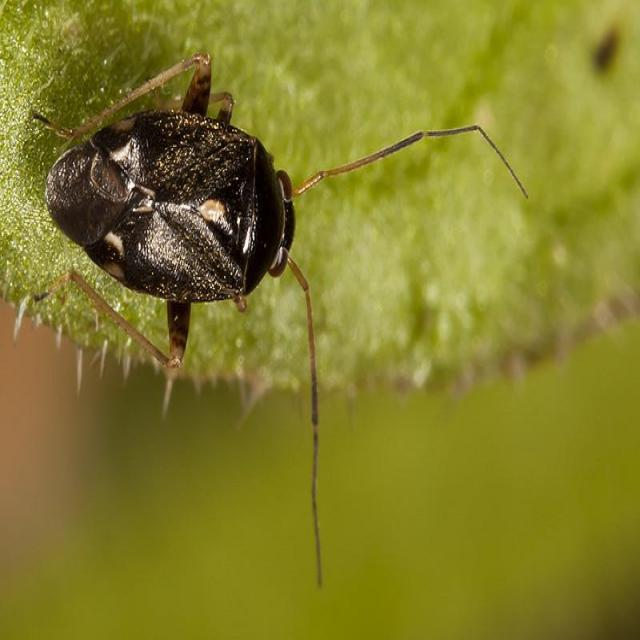Miridae-Adult-: (24, 52, 451, 430)
